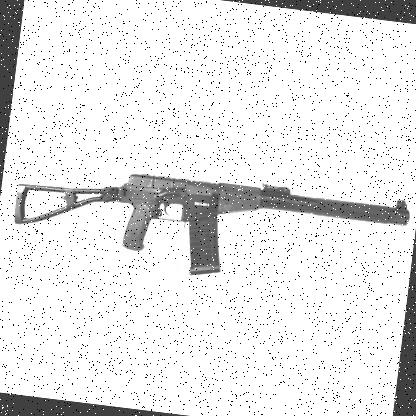rifle: (4, 136, 416, 316)
